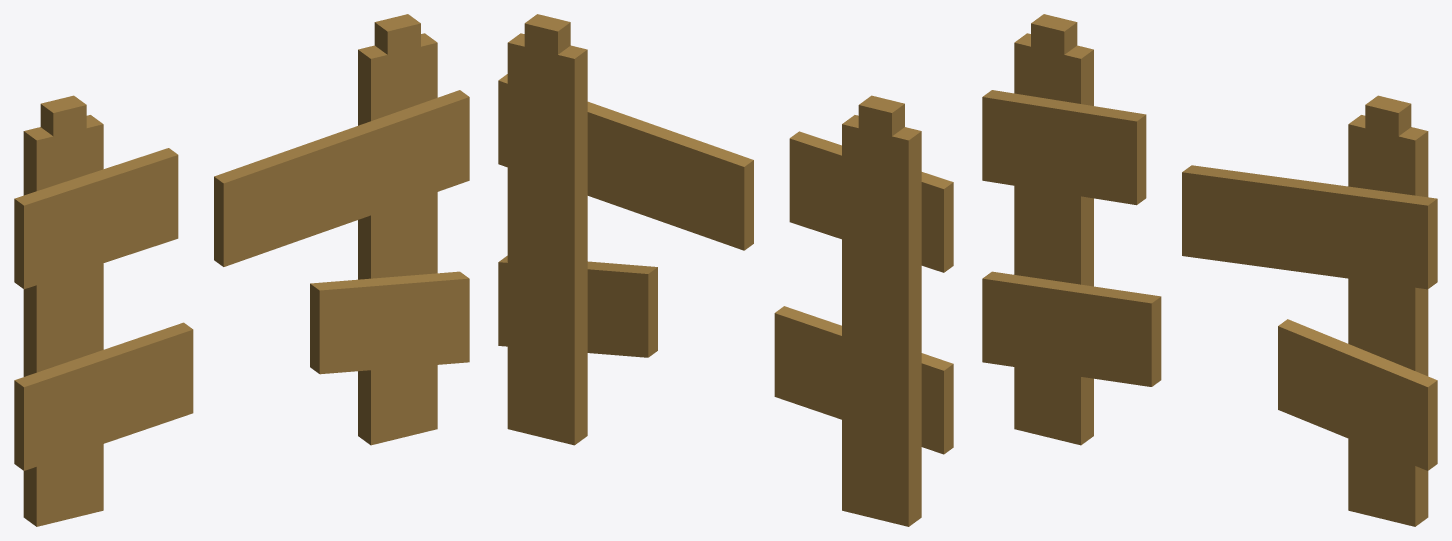
The model's file is fbx_fencebroken.fbx.
3 renders of one model, left to right at view 1: azimuth 30°, elevation 25°; view 2: azimuth 150°, elevation 25°; view 3: azimuth 330°, elevation 25°, orthographic.
Visible parts, largest first — view 1: sm_fencebroken; view 2: sm_fencebroken; view 3: sm_fencebroken.
Part boxes in pixels (x1,y1,x2,y2): sm_fencebroken: (14, 14, 469, 526); sm_fencebroken: (498, 14, 953, 526); sm_fencebroken: (982, 14, 1437, 526).
Size of the model in its own units: 100 by 87.89 by 8.74.
